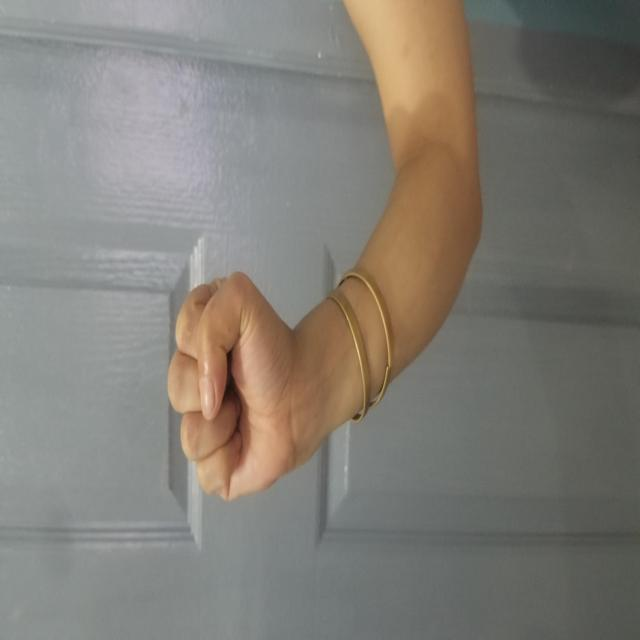S: (138, 167, 375, 299)
